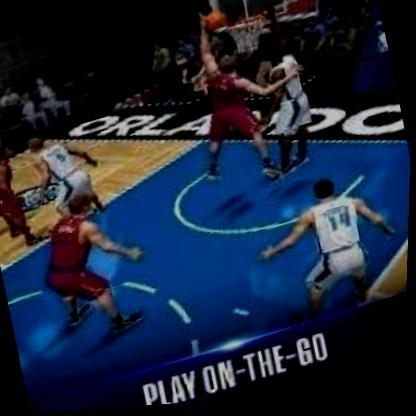basketball: (204, 12, 229, 35)
